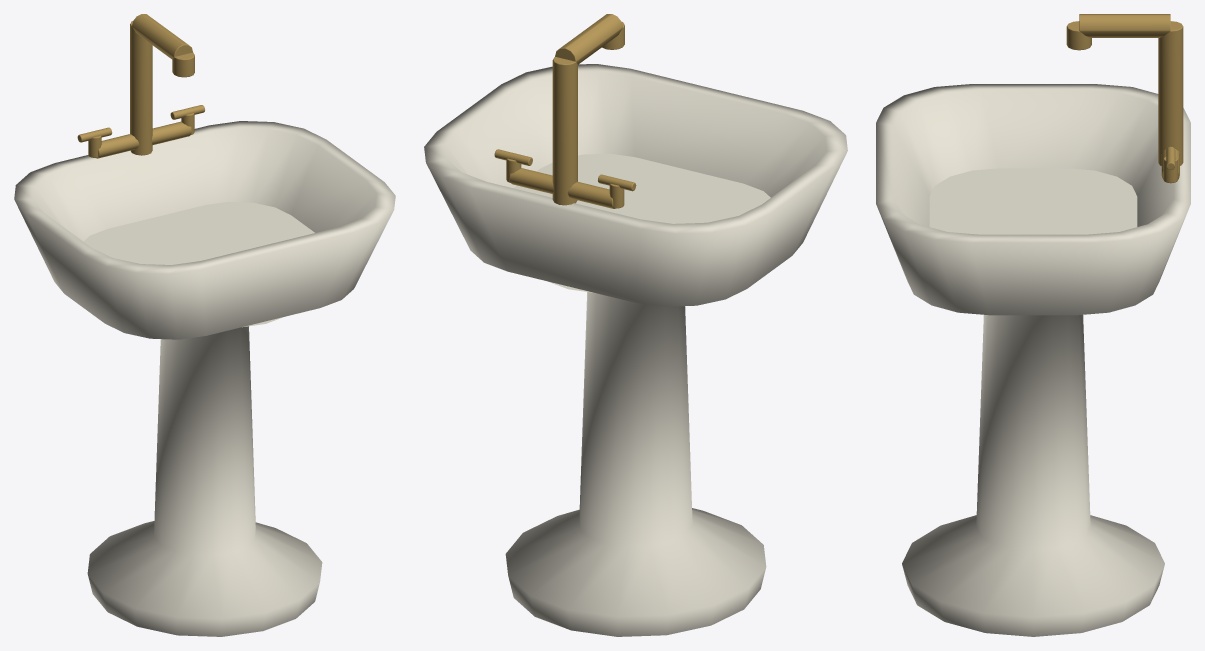
Rendered from rpg-mansion-washstand-01.glb.
3 views of the same model, side by side, from view 1: azimuth 30°, elevation 25°; view 2: azimuth 150°, elevation 25°; view 3: azimuth 270°, elevation 25° (orthographic). The views are drawn at different scales.
Parts seen in each view (by area): view 1: rpg-mansion-washstand-01; view 2: rpg-mansion-washstand-01; view 3: rpg-mansion-washstand-01.
Part boxes in pixels (box(x1,y1,x2,y2)): rpg-mansion-washstand-01: box(14, 14, 395, 636); rpg-mansion-washstand-01: box(424, 14, 847, 636); rpg-mansion-washstand-01: box(876, 14, 1190, 636).
Bounding box in the file's own units: 0.68 × 1.14 × 0.57.
